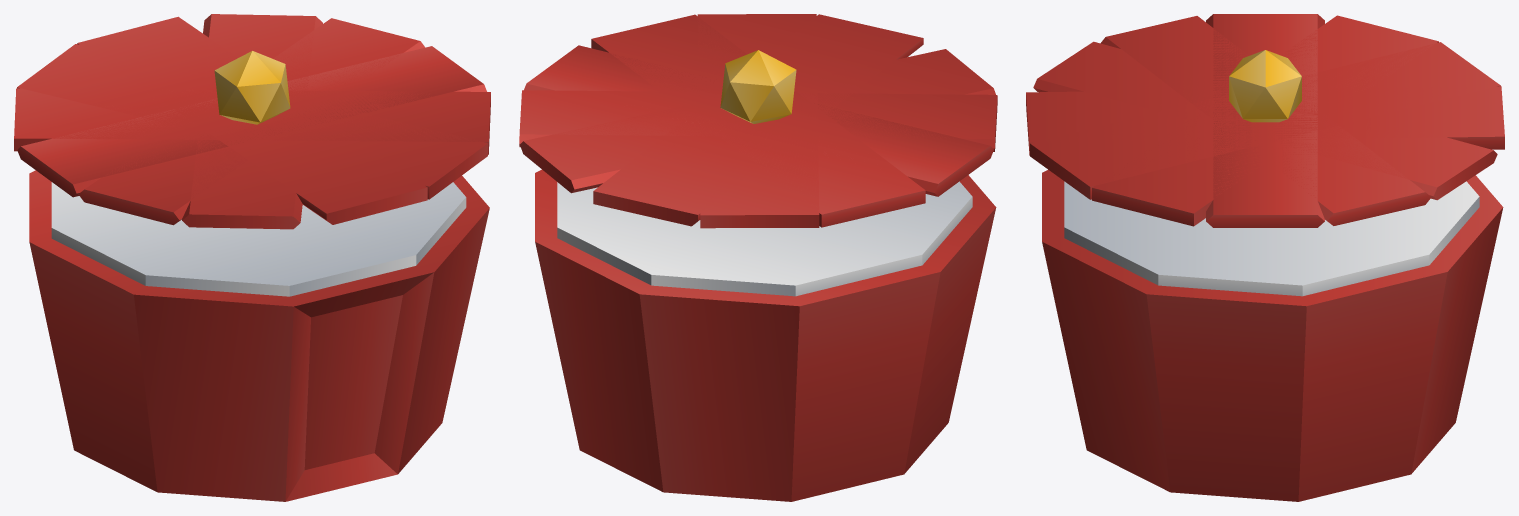
File: dt_poinsettia_pot.fbx
3 views of the same model, side by side, from view 1: azimuth 30°, elevation 25°; view 2: azimuth 150°, elevation 25°; view 3: azimuth 270°, elevation 25° (orthographic).
Visible parts, largest first — view 1: dt_poinsettia_pot; view 2: dt_poinsettia_pot; view 3: dt_poinsettia_pot.
Boxes of the visible parts, x1,y1,x2,y2 form: dt_poinsettia_pot: (14,14,490,501); dt_poinsettia_pot: (519,14,997,501); dt_poinsettia_pot: (1026,14,1504,501).
Size of the model in its own units: 238 by 206 by 240.
